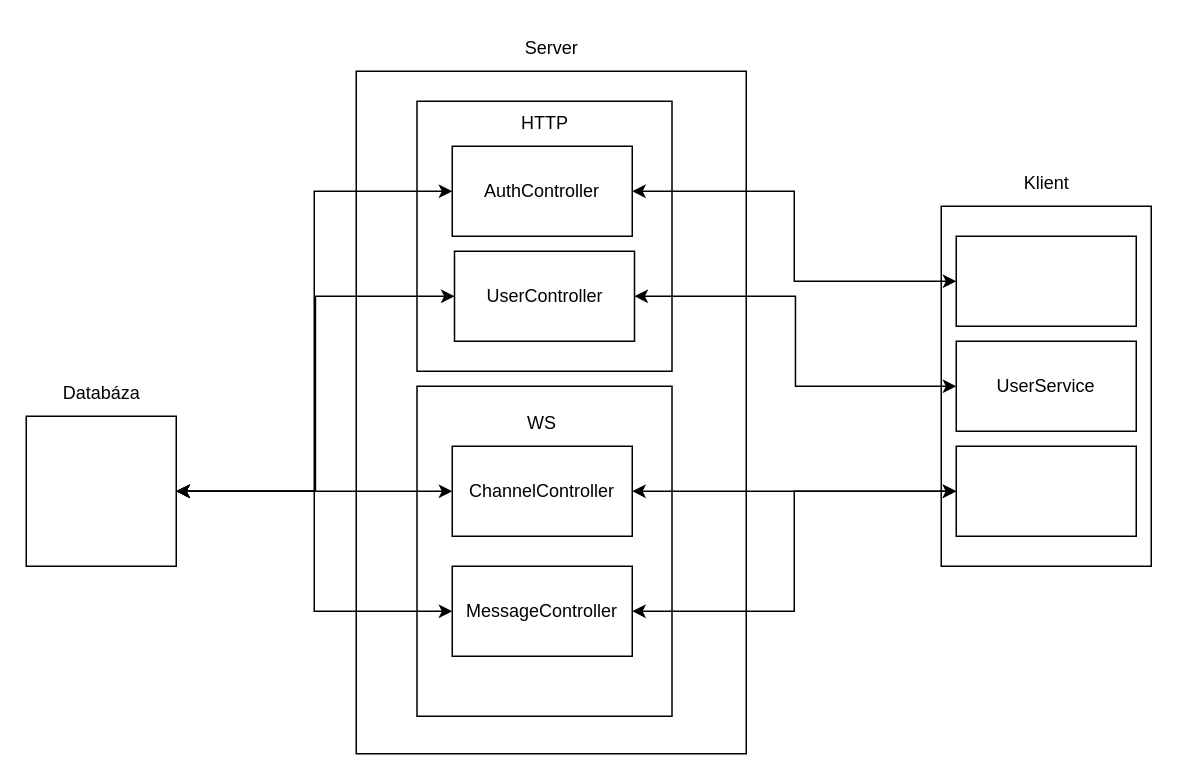
This 1178x780 diagram has some shape labels left out. The shapes that lost their labels are listed below. From the top down, each one's centre as x and y in pixels, then its label:
point 1045,280: AuthService
point 100,490: SQLite
point 1045,490: ChannelService
